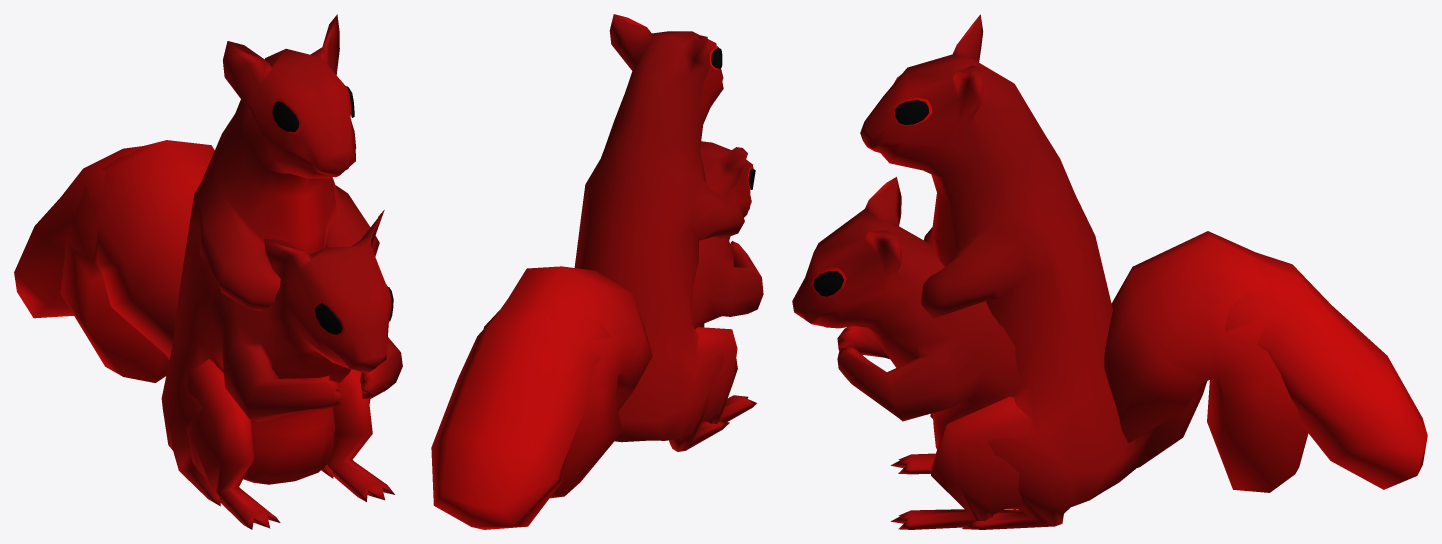
The model's file is Animals_RedSquirrel.fbx.
3 renders of one model, left to right at view 1: azimuth 30°, elevation 25°; view 2: azimuth 150°, elevation 25°; view 3: azimuth 270°, elevation 25°, orthographic. The views are drawn at different scales.
Visible parts, largest first — view 1: alt593, alt592; view 2: alt592, alt593; view 3: alt592, alt593.
Part boxes in pixels (x1,y1,x2,y2): alt593: (60,140,402,529); alt592: (14,14,379,506); alt592: (431,14,744,529); alt593: (483,141,763,498); alt592: (860,14,1427,529); alt593: (792,177,1308,529).
Size of the model in its own units: 10.45 by 27.86 by 35.34.
